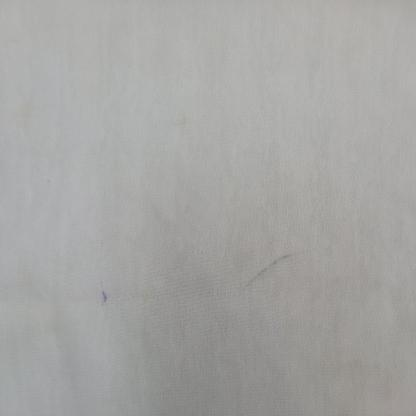spot: (242, 251, 306, 289), (100, 288, 113, 308)
